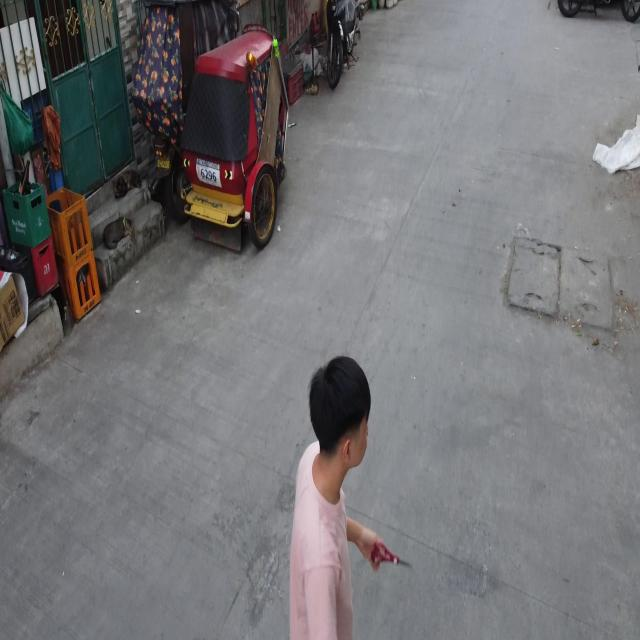scissor: (371, 540, 411, 569)
